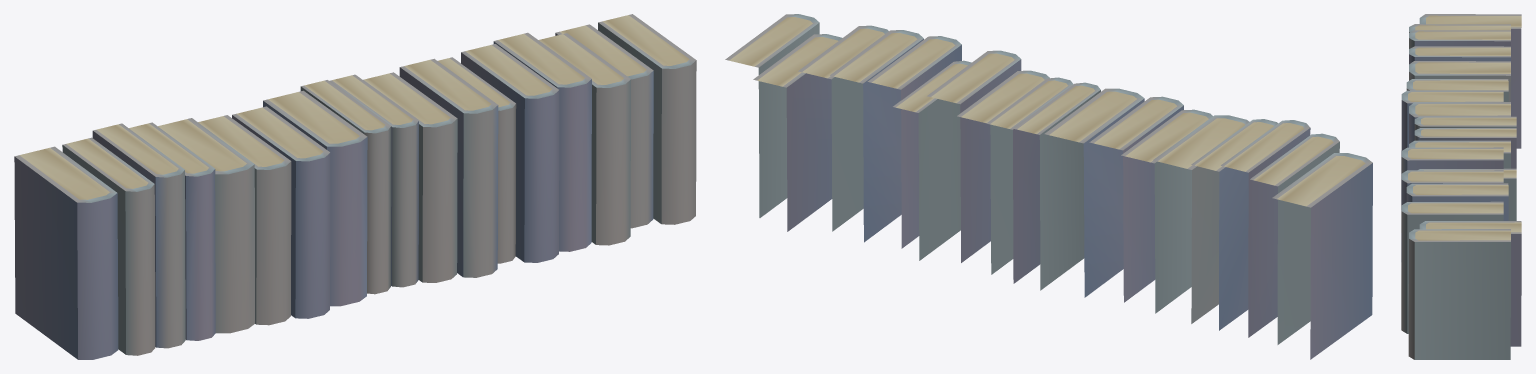
Rendered from BookGroup_Medium_2.glb.
The picture shows the model from 3 angles, left to right: view 1: azimuth 30°, elevation 25°; view 2: azimuth 150°, elevation 25°; view 3: azimuth 270°, elevation 25°; orthographic projection. The views are drawn at different scales.
Visible parts, largest first — view 1: BookGroup_Medium_2; view 2: BookGroup_Medium_2; view 3: BookGroup_Medium_2.
Part boxes in pixels (left/top/right/bottom): BookGroup_Medium_2: left=14, top=14, right=696, bottom=359; BookGroup_Medium_2: left=725, top=14, right=1372, bottom=359; BookGroup_Medium_2: left=1401, top=14, right=1521, bottom=359.
Size of the model in its own units: 1.1 by 0.2949 by 0.2475.
